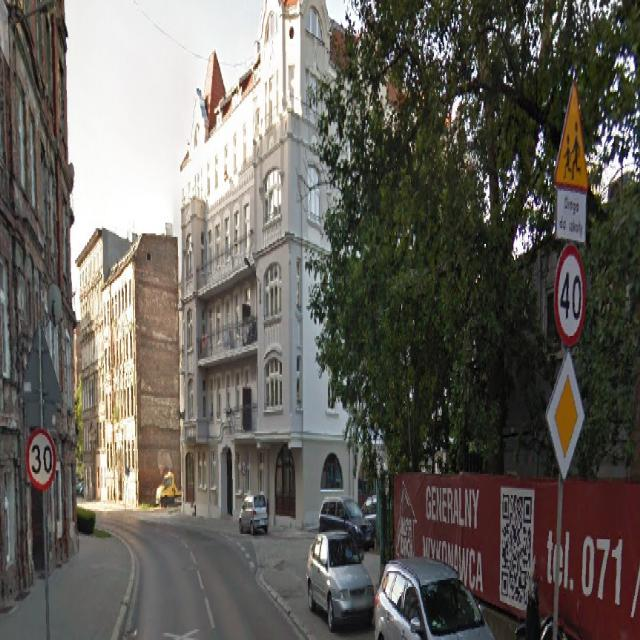Droga z pierwszenstwem: (544, 348, 585, 479)
Dzieci: (552, 80, 588, 194)
